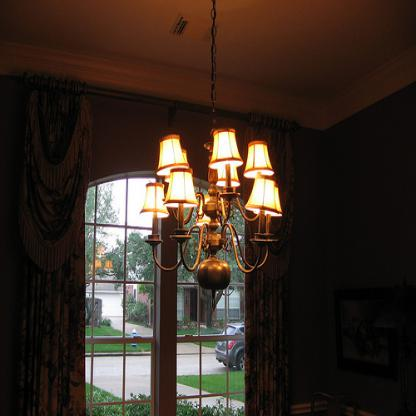car: (216, 320, 245, 368)
